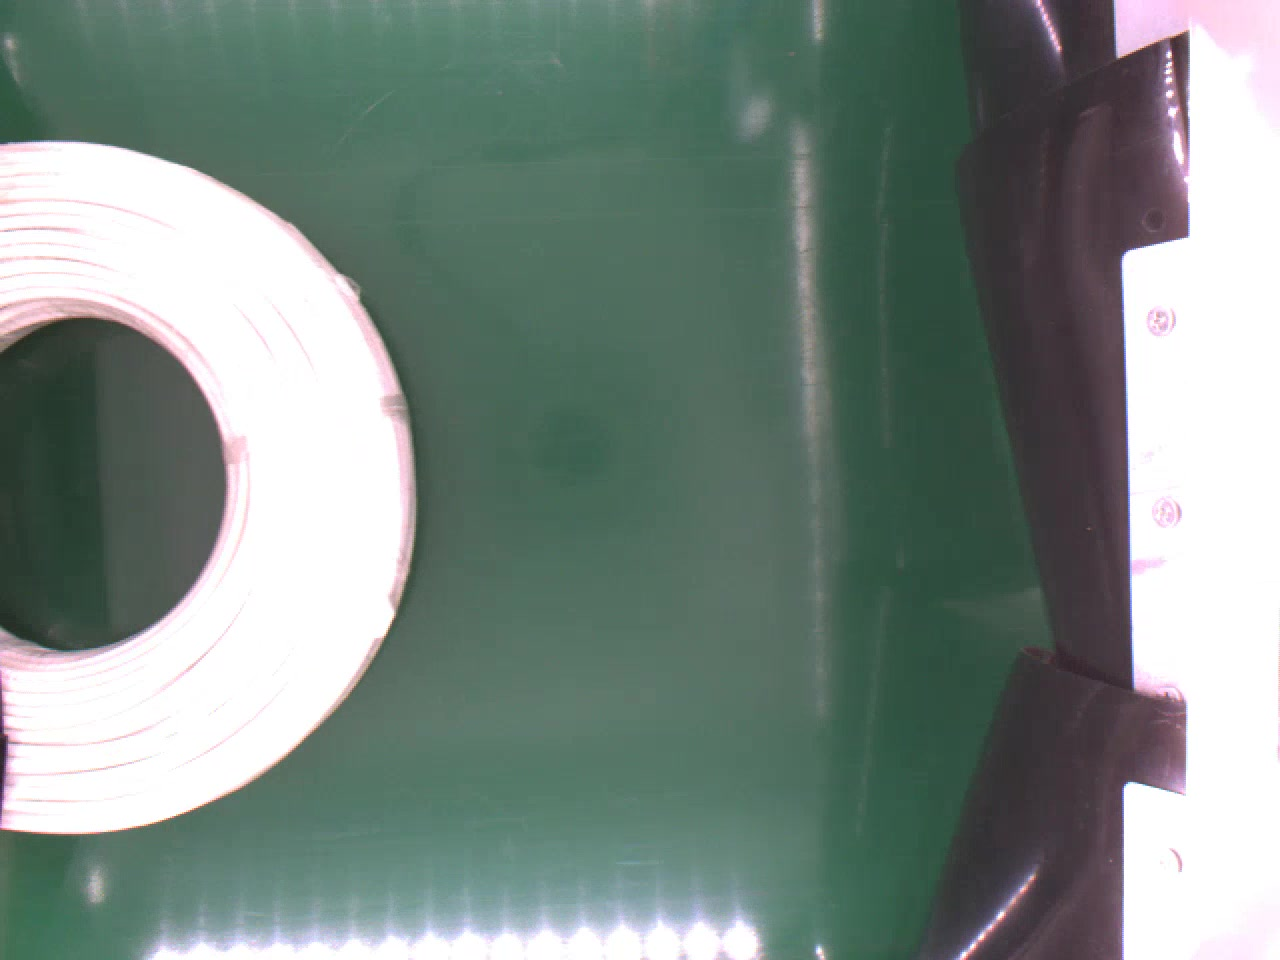white: (0, 134, 419, 839)
